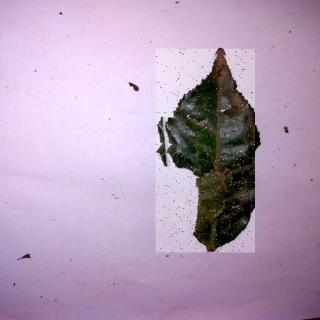Anthracnose: (157, 50, 256, 254)
